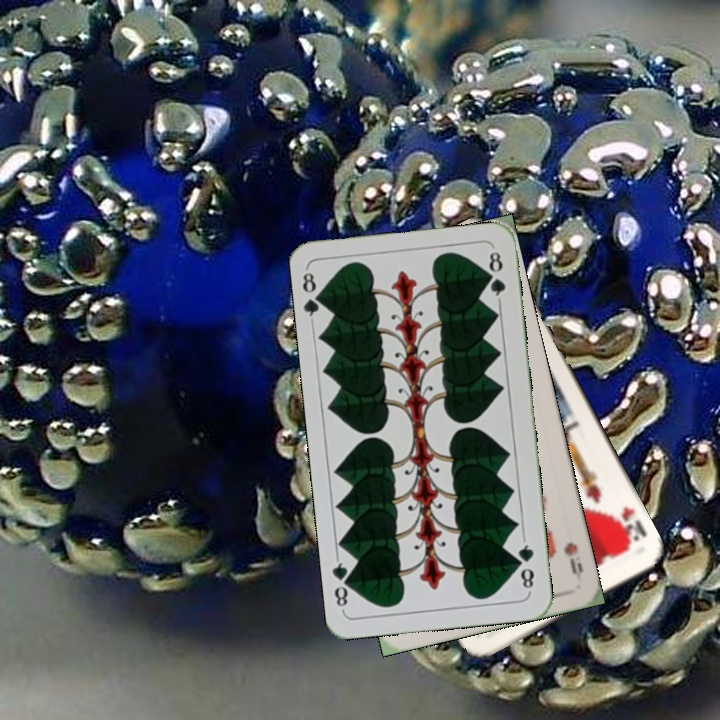G8: (298, 266, 328, 325), (513, 535, 537, 594)
H9: (560, 538, 586, 577)
HK: (608, 502, 649, 552)
